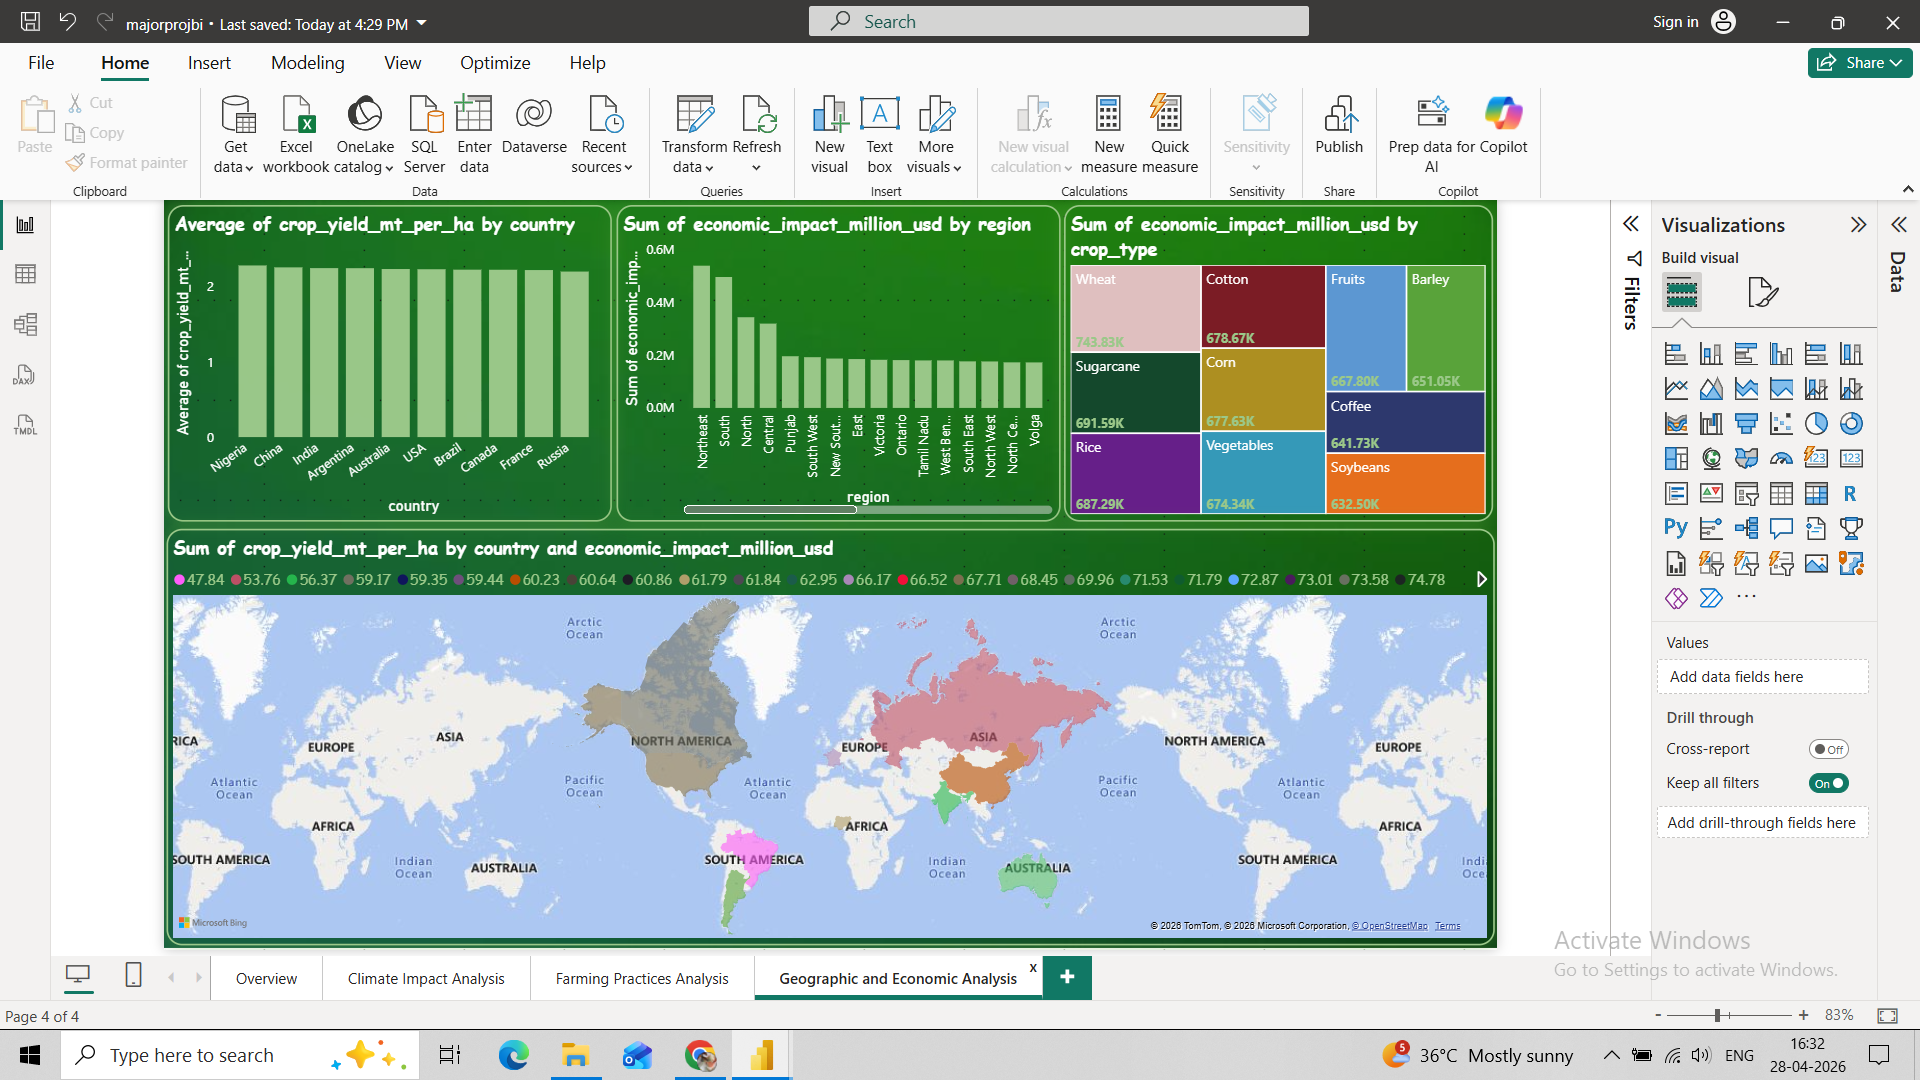

This screenshot's page, from the dashboard's own definition file:
{"tool":"powerbi","page":{"name":"Geographic and Economic Analysis","canvas":[1280,720],"ordinal":3},"visuals":[{"type":"clusteredColumnChart","fields":{"Category":["filtered_agrofile.country"],"Y":["Avg(filtered_agrofile.crop_yield_mt_per_ha)"]},"box":[3,5,426,304],"z":0},{"type":"clusteredColumnChart","fields":{"Category":["filtered_agrofile.region"],"Y":["Sum(filtered_agrofile.economic_impact_million_usd)"]},"box":[434,5,426,304],"z":1000},{"type":"treemap","fields":{"Values":["Sum(filtered_agrofile.economic_impact_million_usd)"],"Group":["filtered_agrofile.crop_type"]},"box":[864,5,412,304],"z":2000},{"type":"filledMap","fields":{"Category":["filtered_agrofile.country"],"Series":["filtered_agrofile.economic_impact_million_usd"]},"box":[2,316,1275,400],"z":3000}]}

Visuals, with their boxes on the page's 1280x720 design canvas (x1, y1, x2, y2). These are canvas units, not pixel positions in the 1920x1080 screenshot, which may show the page scaled, cropped or inside an application window:
clusteredColumnChart - filtered_agrofile.country x Avg(filtered_agrofile.crop_yield_mt_per_ha): <region>3, 5, 429, 309</region>
clusteredColumnChart - filtered_agrofile.region x Sum(filtered_agrofile.economic_impact_million_usd): <region>434, 5, 860, 309</region>
treemap - Sum(filtered_agrofile.economic_impact_million_usd) x filtered_agrofile.crop_type: <region>864, 5, 1276, 309</region>
filledMap - filtered_agrofile.country x filtered_agrofile.economic_impact_million_usd: <region>2, 316, 1277, 716</region>
